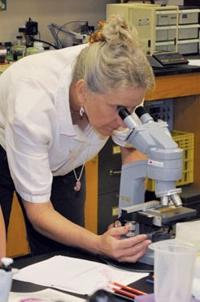person: (1, 17, 155, 263)
